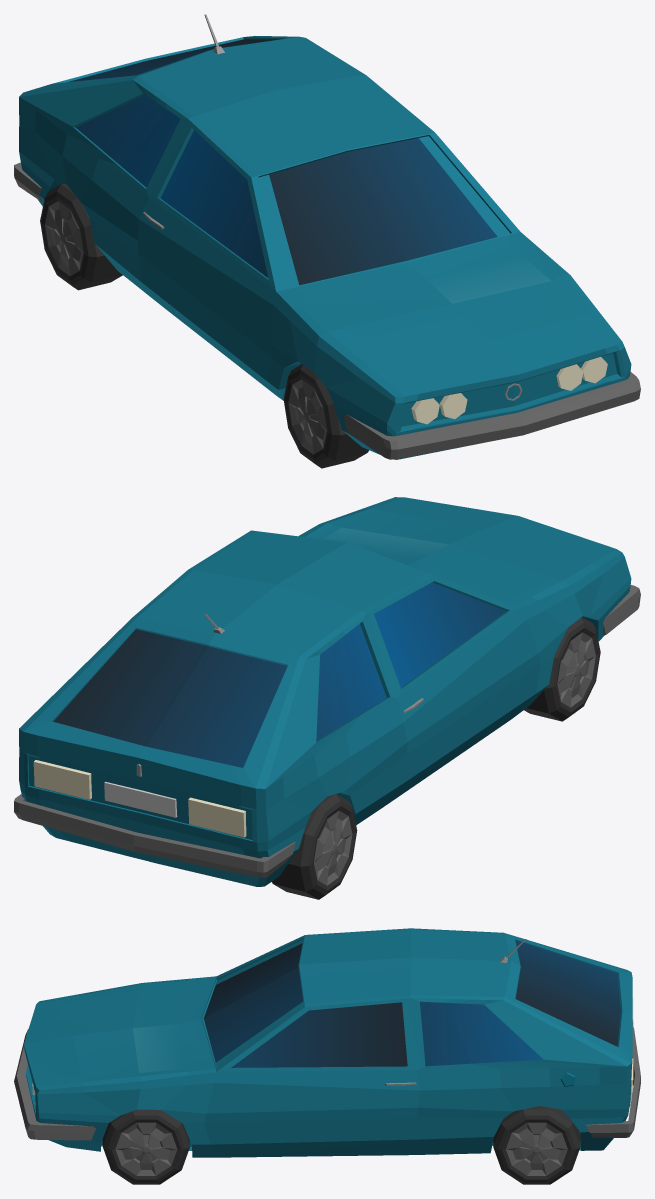
The model's file is B02_car_2.fbx.
3 views of the same model, one above another, from view 1: azimuth 30°, elevation 25°; view 2: azimuth 150°, elevation 25°; view 3: azimuth 270°, elevation 25° (orthographic). The views are drawn at different scales.
Parts seen in each view (by area): view 1: B02_car_2; view 2: B02_car_2; view 3: B02_car_2.
Boxes of the visible parts, <box> form: B02_car_2: <box>14,14,640,468</box>; B02_car_2: <box>14,497,640,899</box>; B02_car_2: <box>14,928,640,1184</box>.
Bounding box in the file's own units: 211 × 180 × 524.
